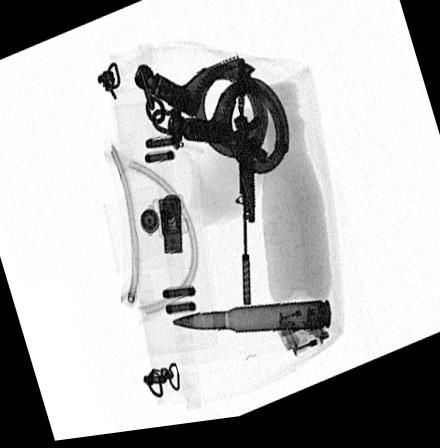Bullet: (170, 307, 330, 339)
Gun: (233, 65, 270, 314)
HandCuffs: (131, 60, 292, 184)
